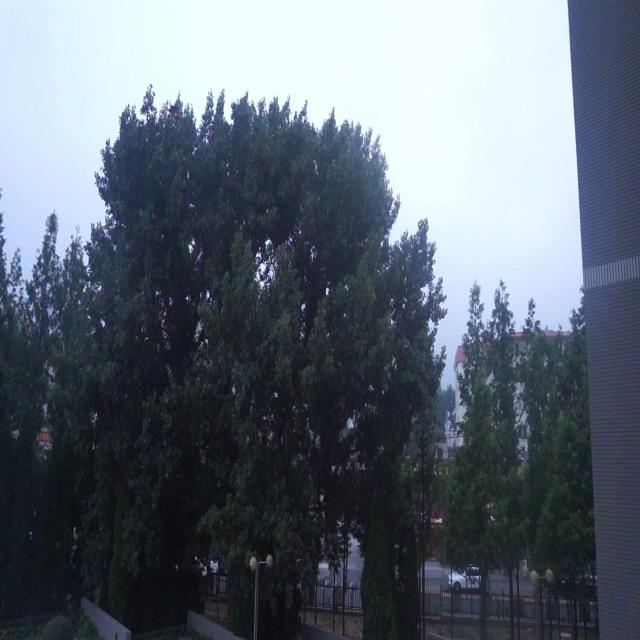UAV: (165, 102, 179, 121)
